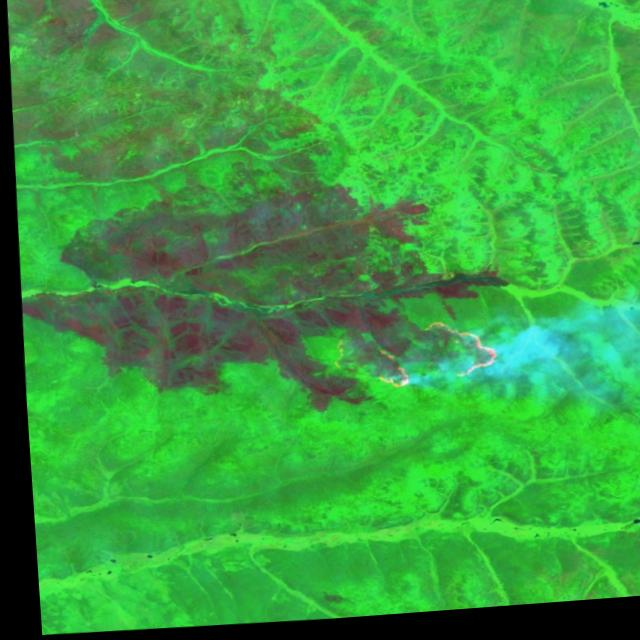fire: (369, 323, 499, 396)
